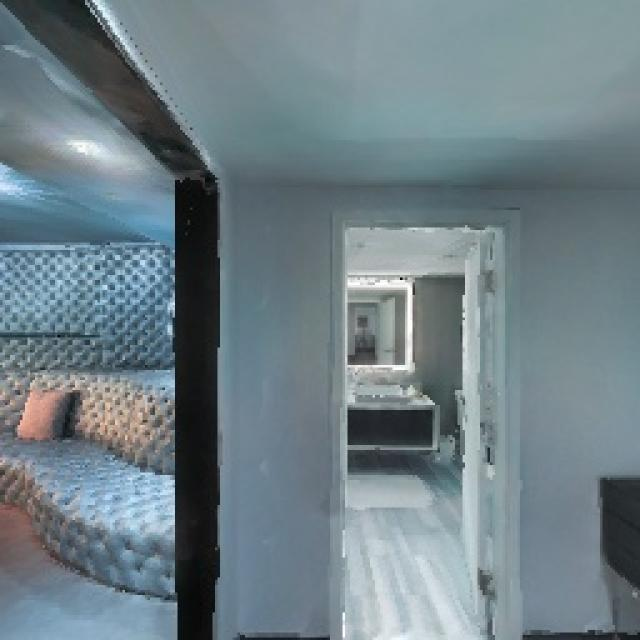door-frame: (0, 29, 233, 640), (326, 208, 528, 640)
sofa: (0, 351, 174, 601)
